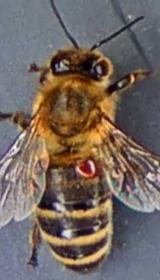varroa_mite: (70, 150, 110, 185)
